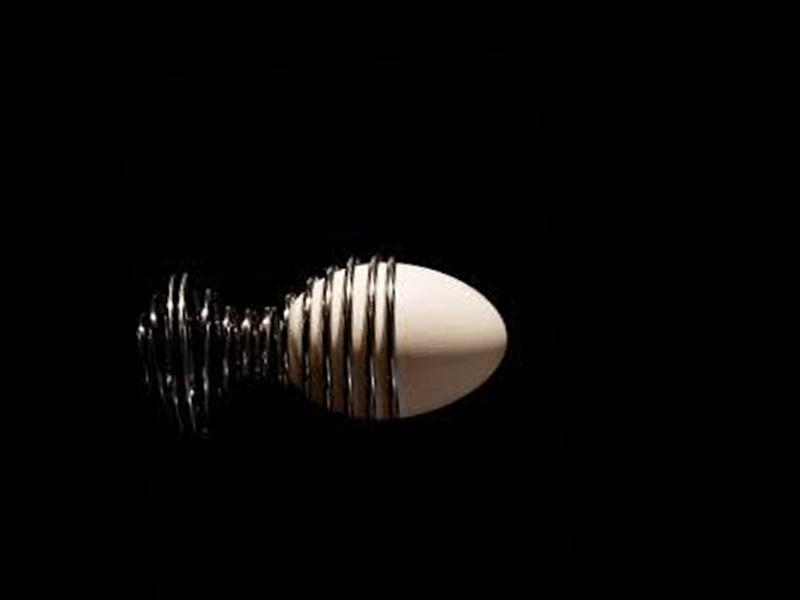Eggs: (280, 252, 513, 425)
